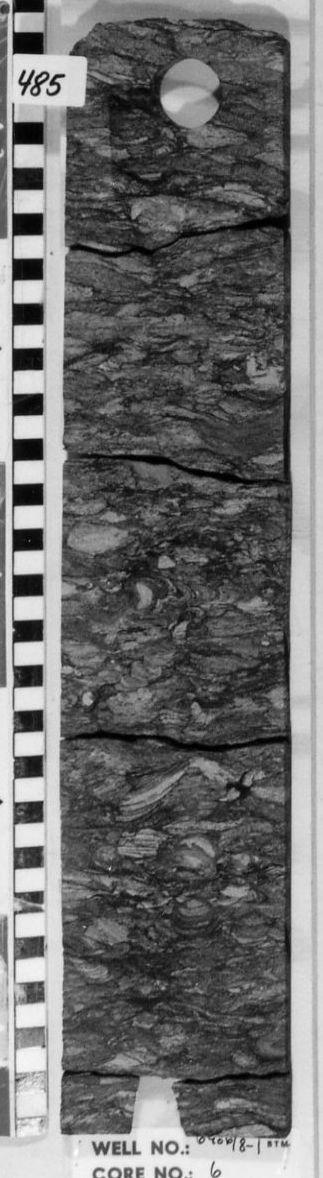hplug: (148, 48, 228, 135)
vplug: (122, 1065, 190, 1138)
